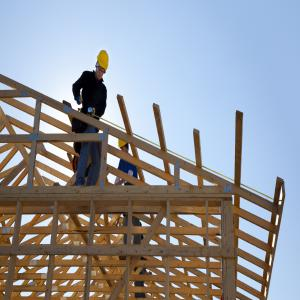yellow: (94, 50, 111, 81), (118, 133, 130, 157)
